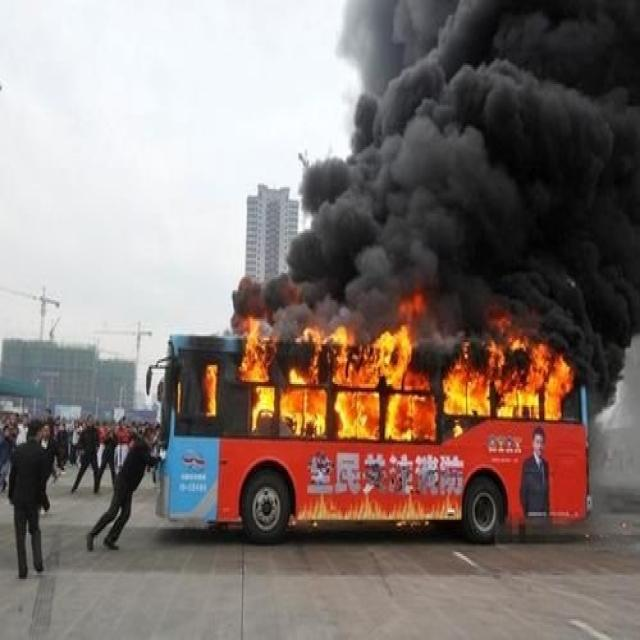Fire: (238, 294, 576, 445), (202, 364, 220, 420)
Smoke: (283, 2, 639, 290)
